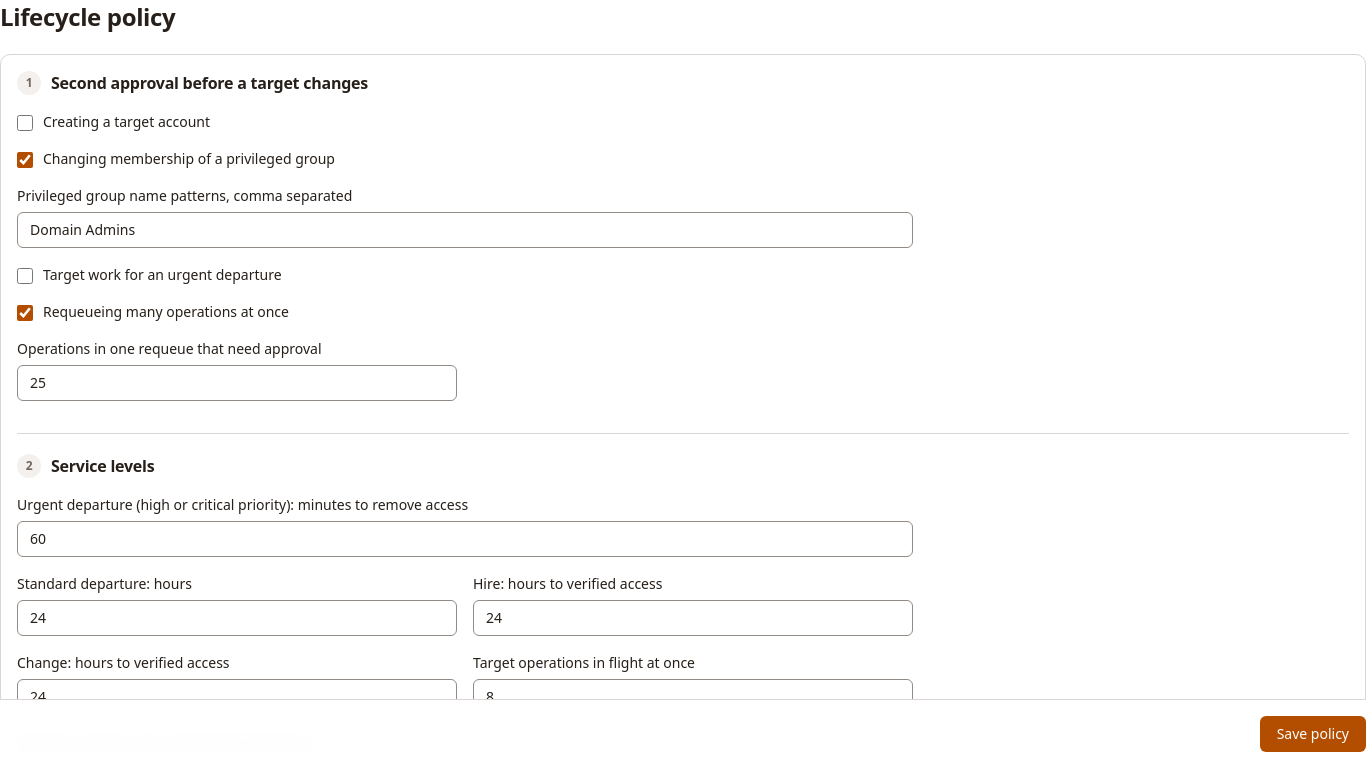
Test: LifecyclePolicyPage › says the form has unsaved changes, and confirms the save
The width and height of the screenshot is (1366, 768).
Expected: the text "Unsaved changes" is not shown
Click the checkbox labelled "Creating a target account" at (25, 123), box x1=17 y1=115 x2=33 y2=131
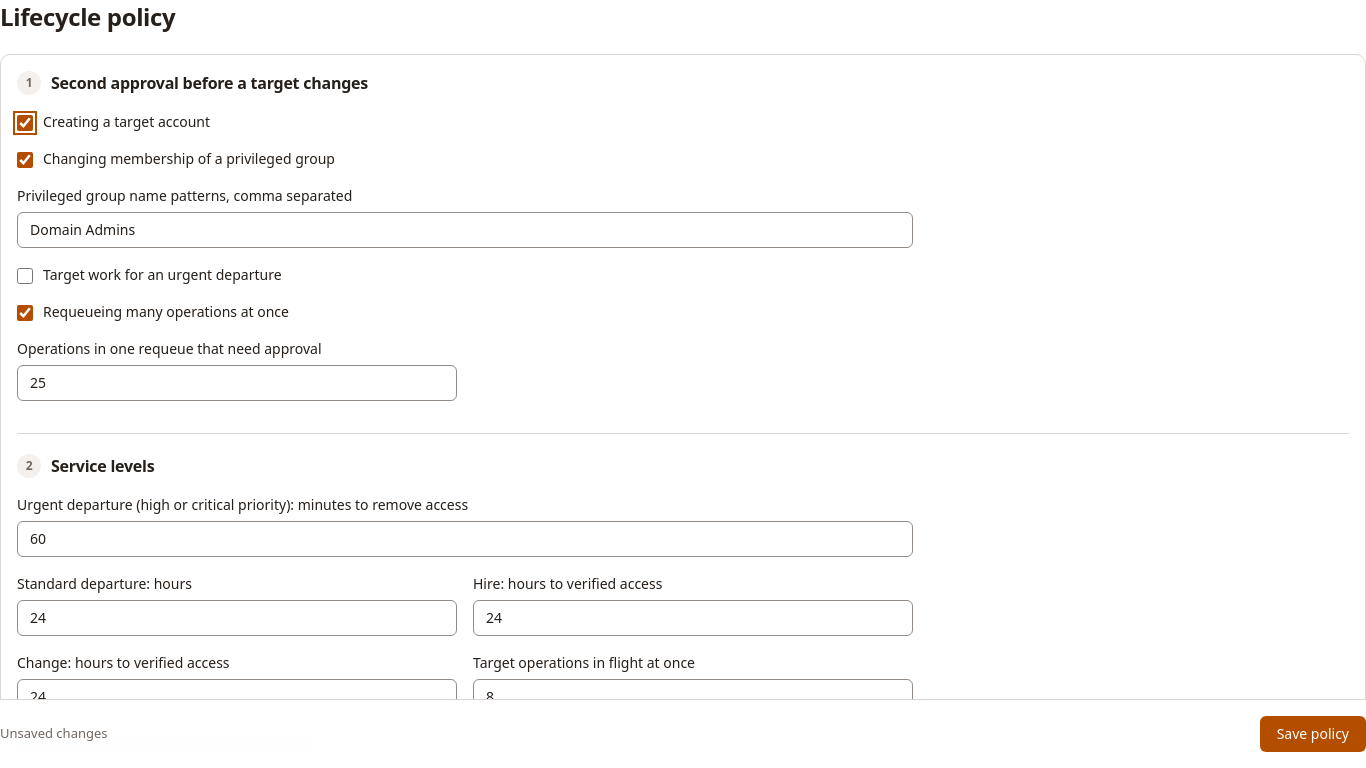
Now the text "Unsaved changes" is shown, box x1=0 y1=725 x2=108 y2=743
Click the button "Save policy" at (1313, 734), box x1=1260 y1=716 x2=1365 y2=752
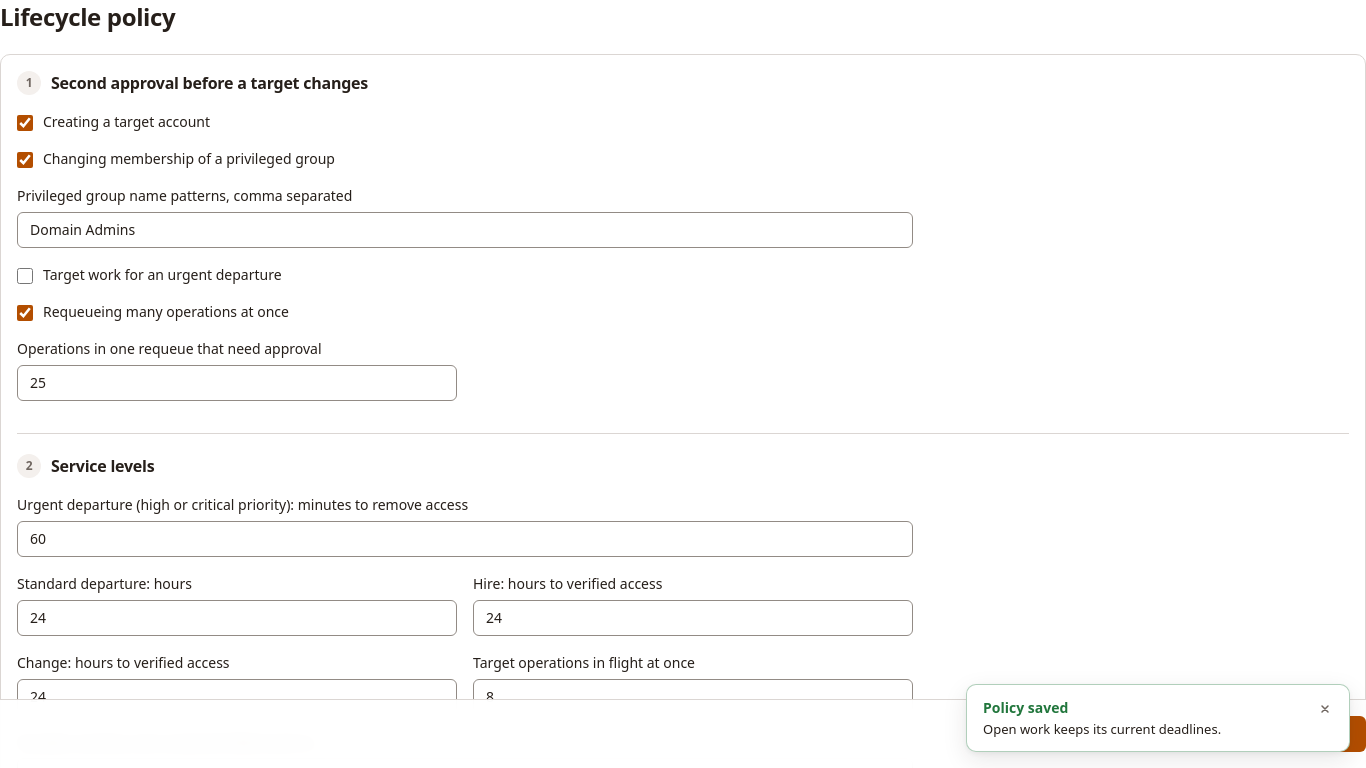
Now the text "Policy saved" is shown, box x1=983 y1=698 x2=1068 y2=717
Now the text "Unsaved changes" is gone
